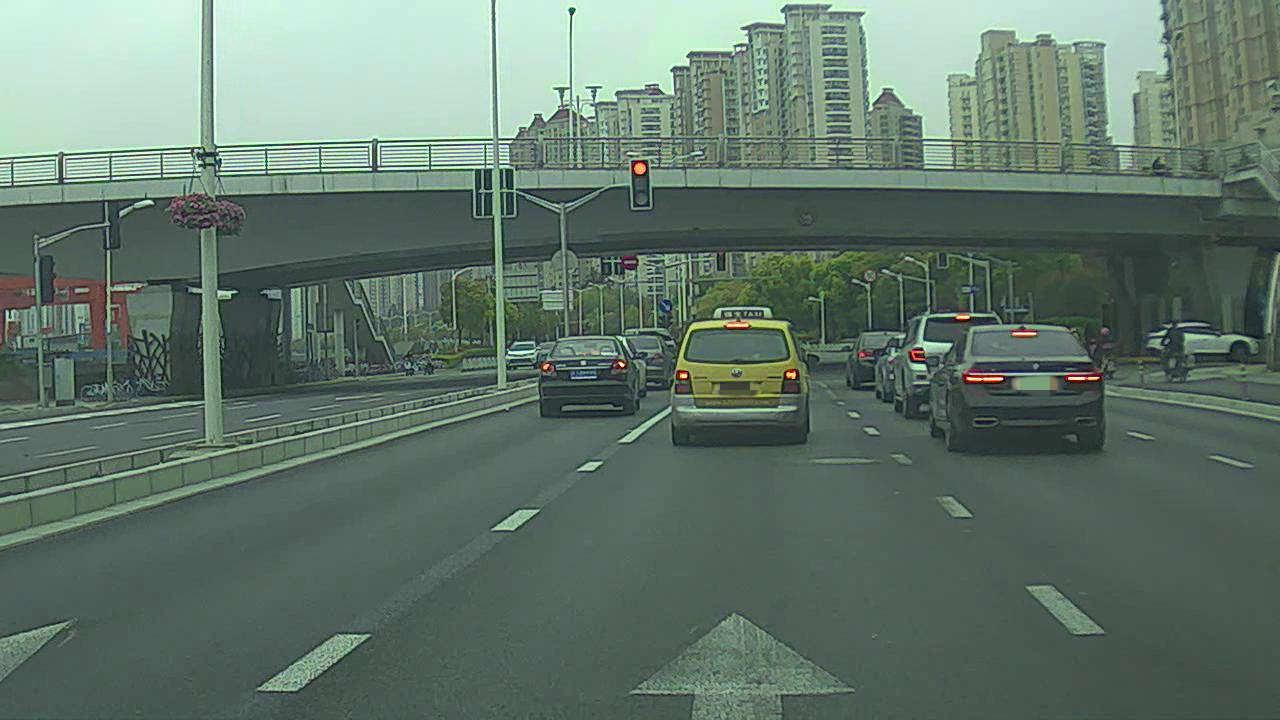traffic_light: (631, 160, 654, 213)
